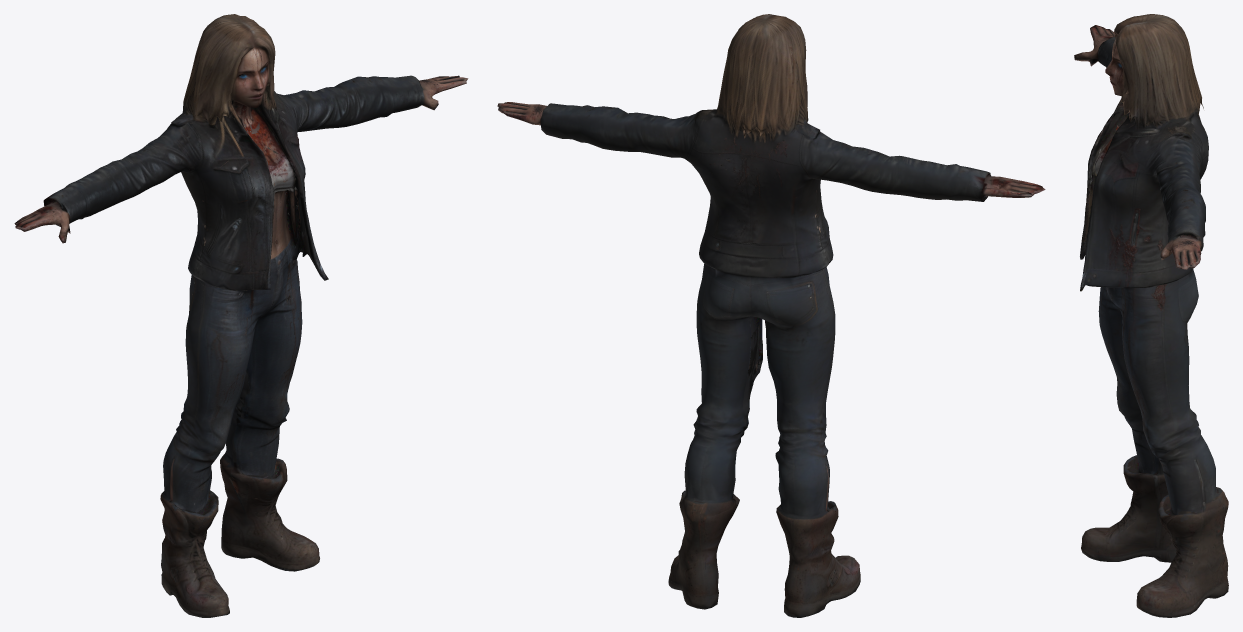
Rendered from main_female_texture.fbx.
3 renders of one model, left to right at view 1: azimuth 30°, elevation 25°; view 2: azimuth 150°, elevation 25°; view 3: azimuth 270°, elevation 25°, orthographic.
Visible parts, largest first — view 1: Mesh1.0; view 2: Mesh1.0; view 3: Mesh1.0.
Boxes of the visible parts, x1=… form: Mesh1.0: x1=14, y1=14, x2=468, y2=617; Mesh1.0: x1=497, y1=14, x2=1045, y2=617; Mesh1.0: x1=1074, y1=14, x2=1228, y2=617.
Bounding box in the file's own units: 184 × 199 × 49.93.
1 material, 1 textured.
